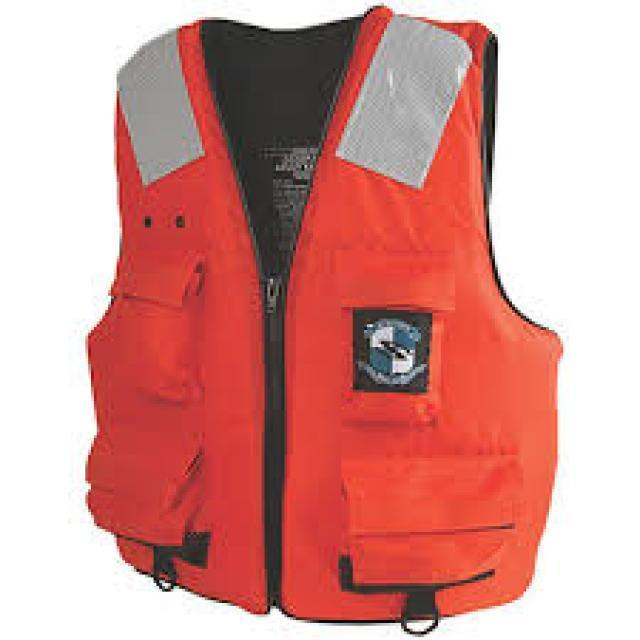Safety Vest: (86, 13, 594, 630), (65, 0, 640, 6)
